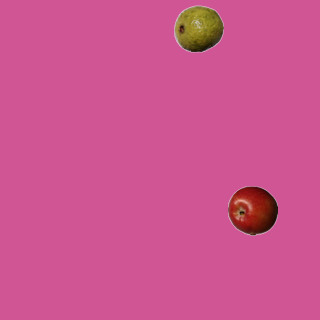Apple Braeburn: (227, 185, 277, 235)
Guava: (173, 3, 223, 53)
